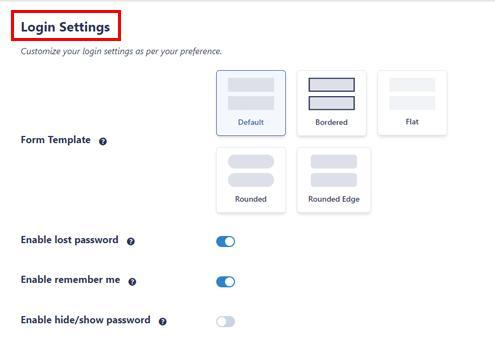icon: (126, 236, 137, 250), (97, 136, 110, 147), (127, 276, 138, 288), (157, 317, 167, 327)
label: (20, 314, 153, 330), (19, 272, 123, 289), (19, 236, 122, 250), (20, 134, 92, 148)
switch: (217, 236, 237, 249), (217, 276, 236, 289), (217, 317, 236, 329)
